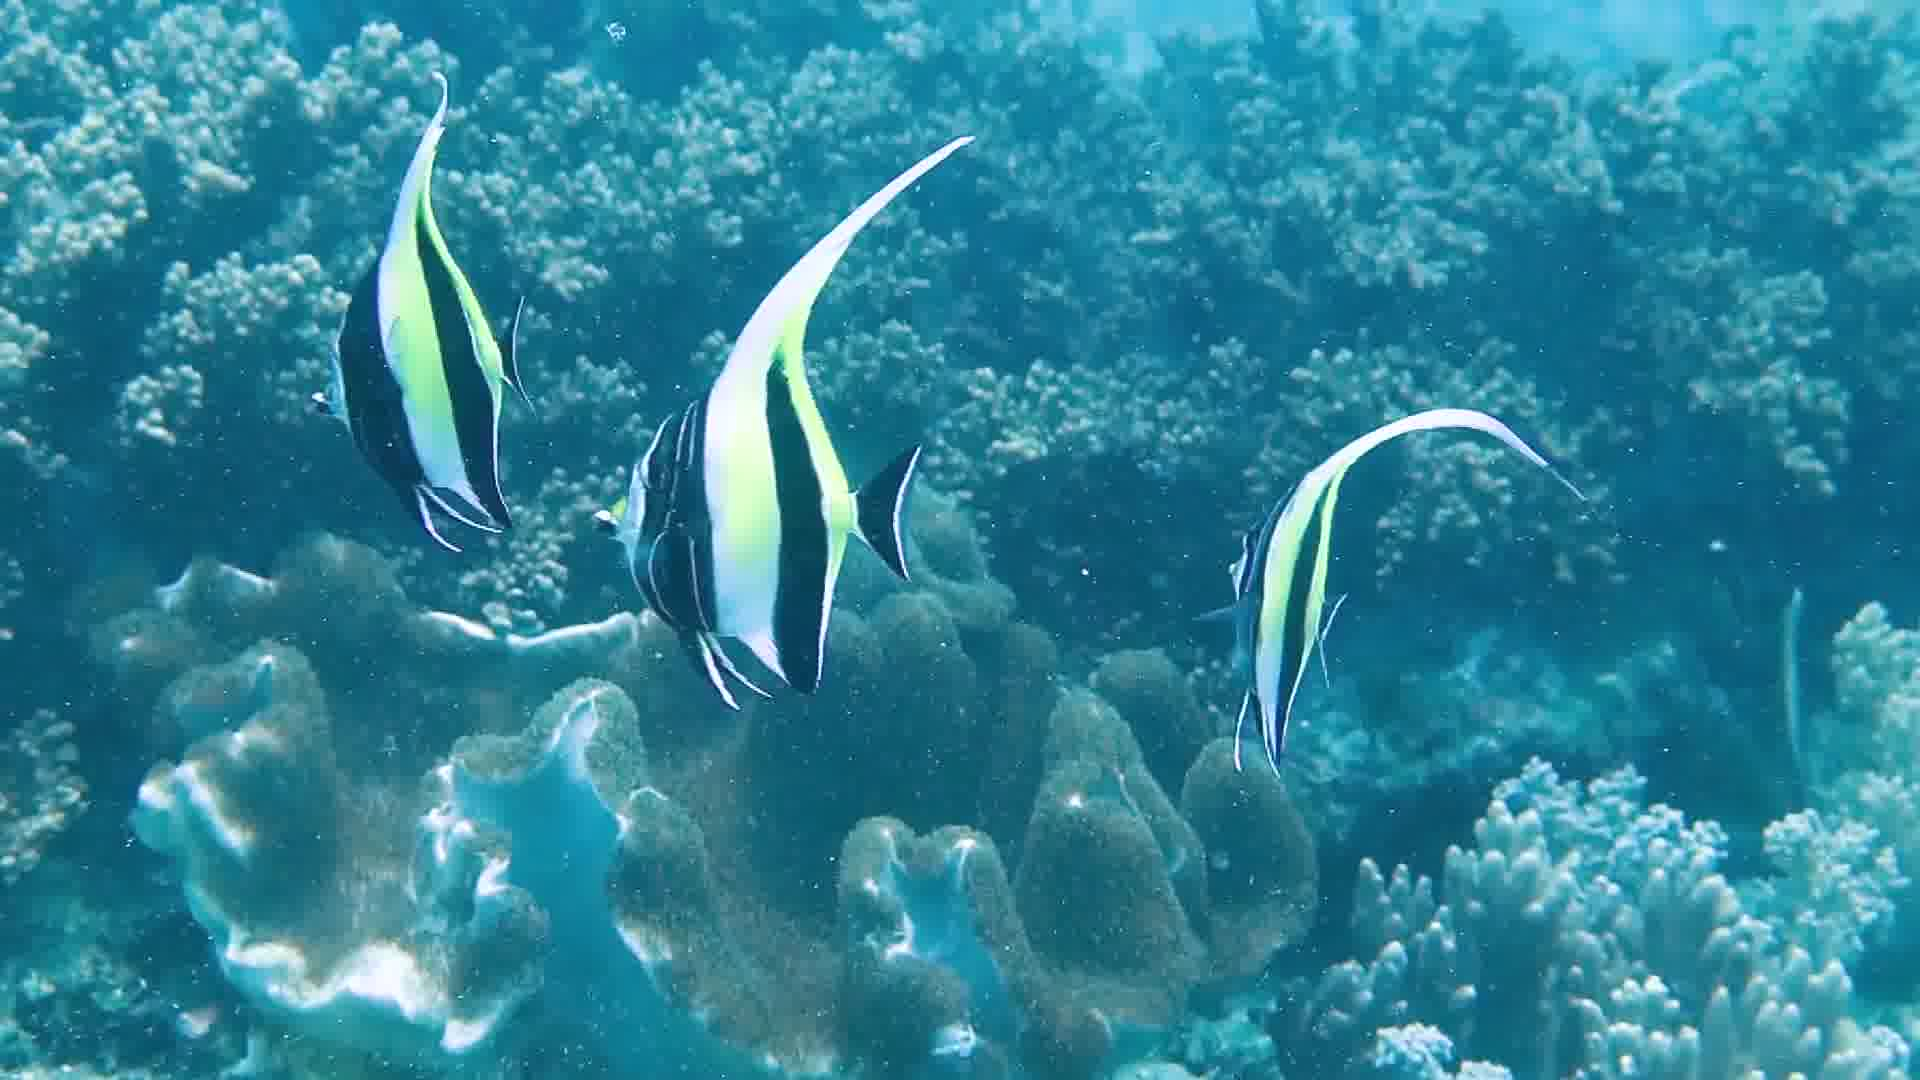Zanclus cornutus: (603, 319, 915, 702), (287, 210, 589, 556), (1216, 425, 1367, 785)
